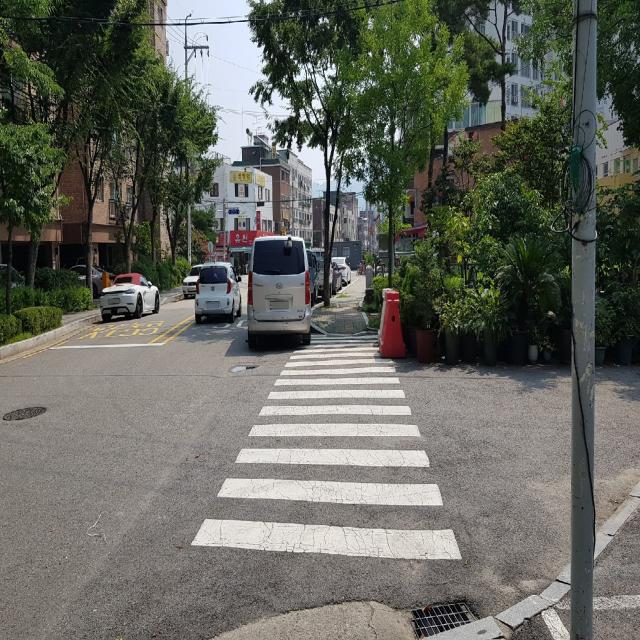횡단보도: (190, 334, 462, 560)
